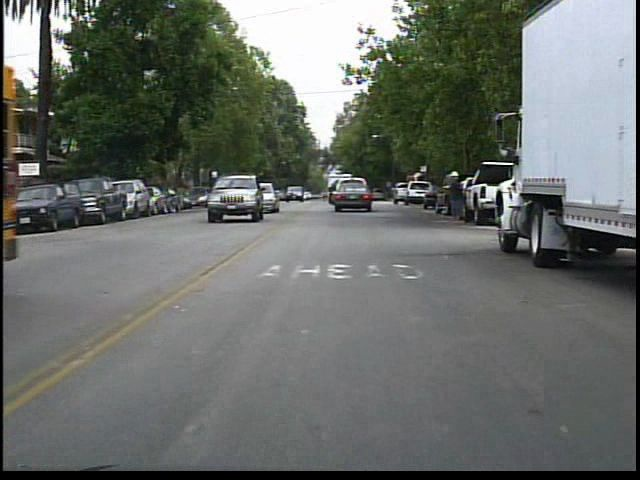person: (443, 168, 471, 226)
